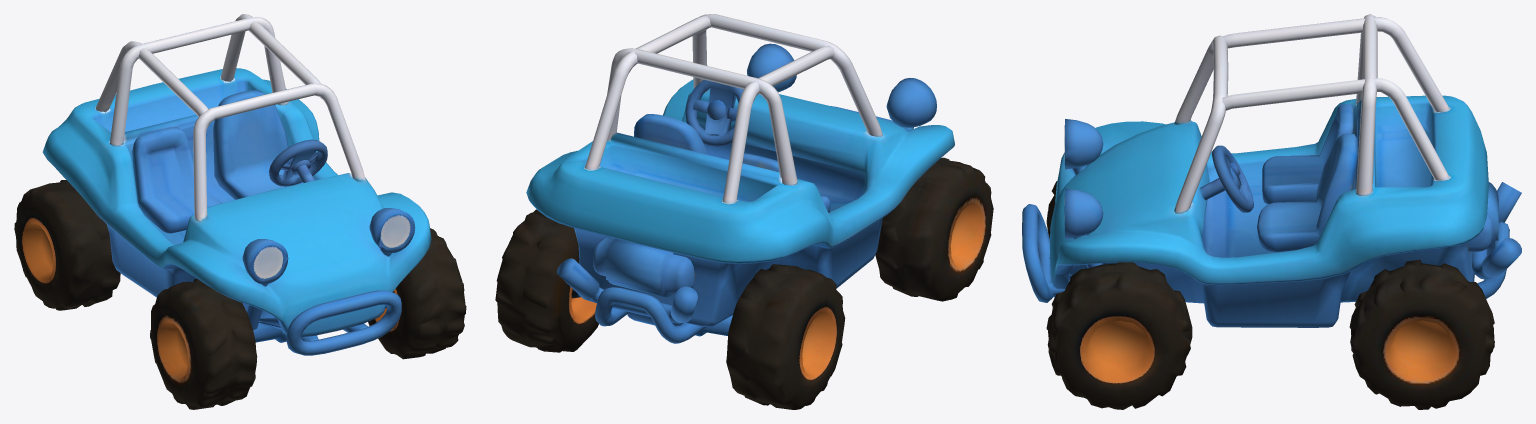
The model's file is car-kumbocegi.glb.
The picture shows the model from 3 angles, left to right: view 1: azimuth 30°, elevation 25°; view 2: azimuth 150°, elevation 25°; view 3: azimuth 270°, elevation 25°; orthographic projection. The views are drawn at different scales.
Parts seen in each view (by area): view 1: tripo_node_ef0789f0-5a9d-4b8c-83bd-47bf5dd083a6; view 2: tripo_node_ef0789f0-5a9d-4b8c-83bd-47bf5dd083a6; view 3: tripo_node_ef0789f0-5a9d-4b8c-83bd-47bf5dd083a6.
Part boxes in pixels (<box>): tripo_node_ef0789f0-5a9d-4b8c-83bd-47bf5dd083a6: <box>14,14,466,409</box>; tripo_node_ef0789f0-5a9d-4b8c-83bd-47bf5dd083a6: <box>495,14,993,409</box>; tripo_node_ef0789f0-5a9d-4b8c-83bd-47bf5dd083a6: <box>1022,14,1521,409</box>.
Size of the model in its own units: 0.6978 by 0.6558 by 0.9995.
Materials: 1 (1 with a texture image).
